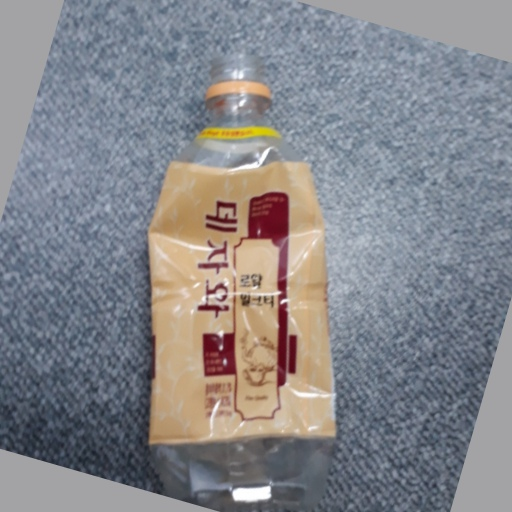Plastic_0: (150, 52, 338, 508)
